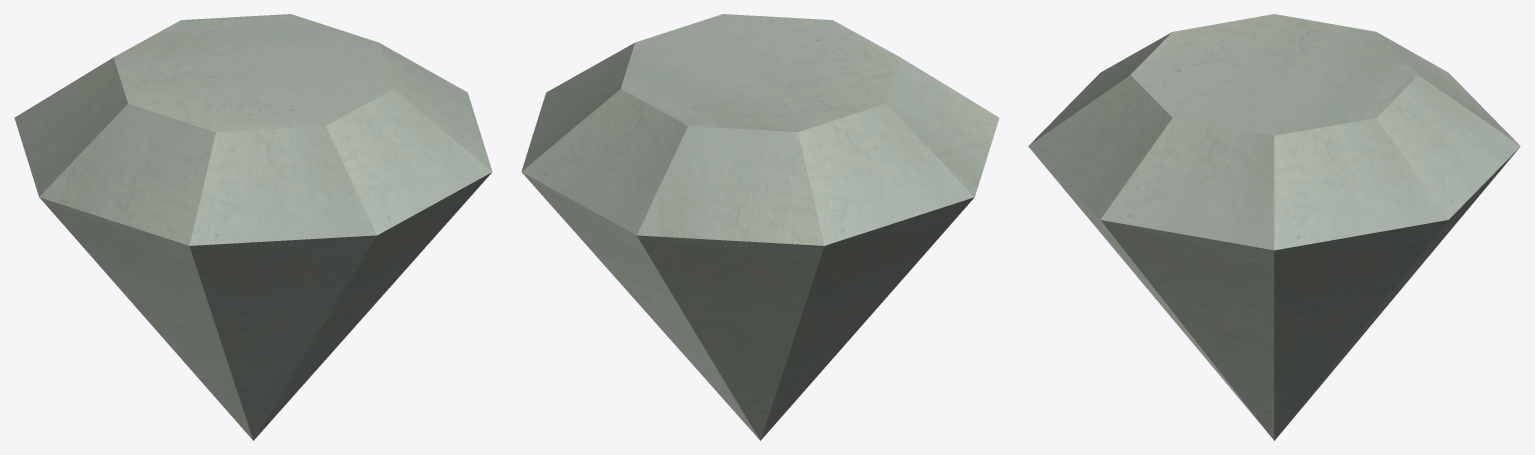
The model's file is gem.fbx.
The picture shows the model from 3 angles, left to right: view 1: azimuth 30°, elevation 25°; view 2: azimuth 150°, elevation 25°; view 3: azimuth 270°, elevation 25°; orthographic projection.
Parts seen in each view (by area): view 1: Cylinder; view 2: Cylinder; view 3: Cylinder.
Boxes of the visible parts, left/top/right/bottom form: Cylinder: left=14, top=14, right=492, bottom=440; Cylinder: left=521, top=14, right=999, bottom=440; Cylinder: left=1028, top=14, right=1520, bottom=440.
Size of the model in its own units: 460 by 377 by 460.
